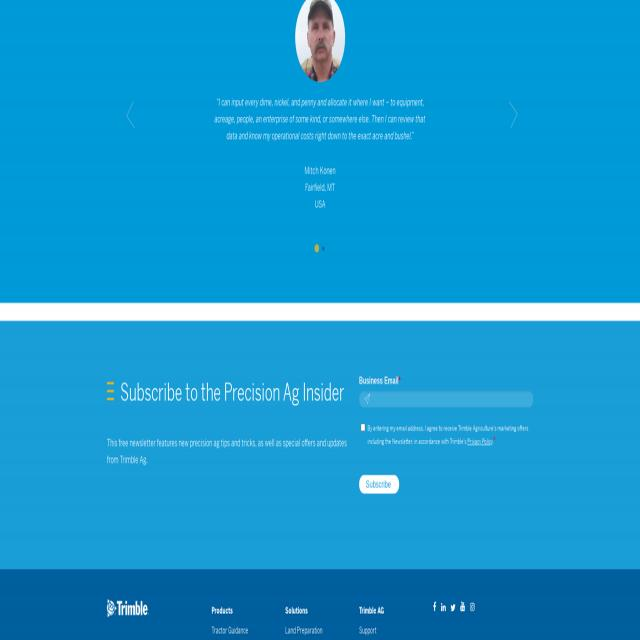button: (295, 0, 345, 82), (502, 93, 522, 144), (359, 474, 399, 494), (106, 598, 148, 616), (124, 94, 140, 138), (440, 600, 448, 614), (459, 601, 467, 614), (469, 602, 477, 614), (432, 598, 438, 612), (322, 242, 328, 254), (315, 242, 321, 253), (450, 604, 455, 611)
field: (361, 392, 535, 408), (361, 423, 366, 431)
